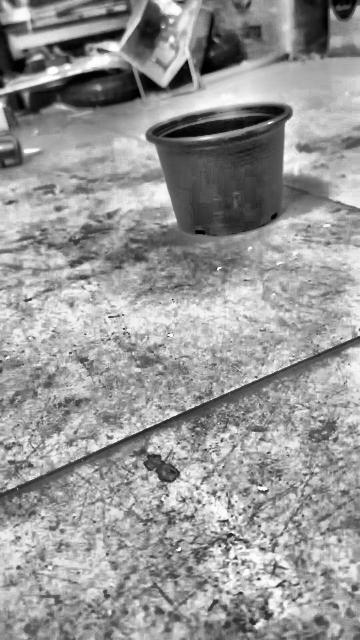pot: (147, 101, 292, 236)
